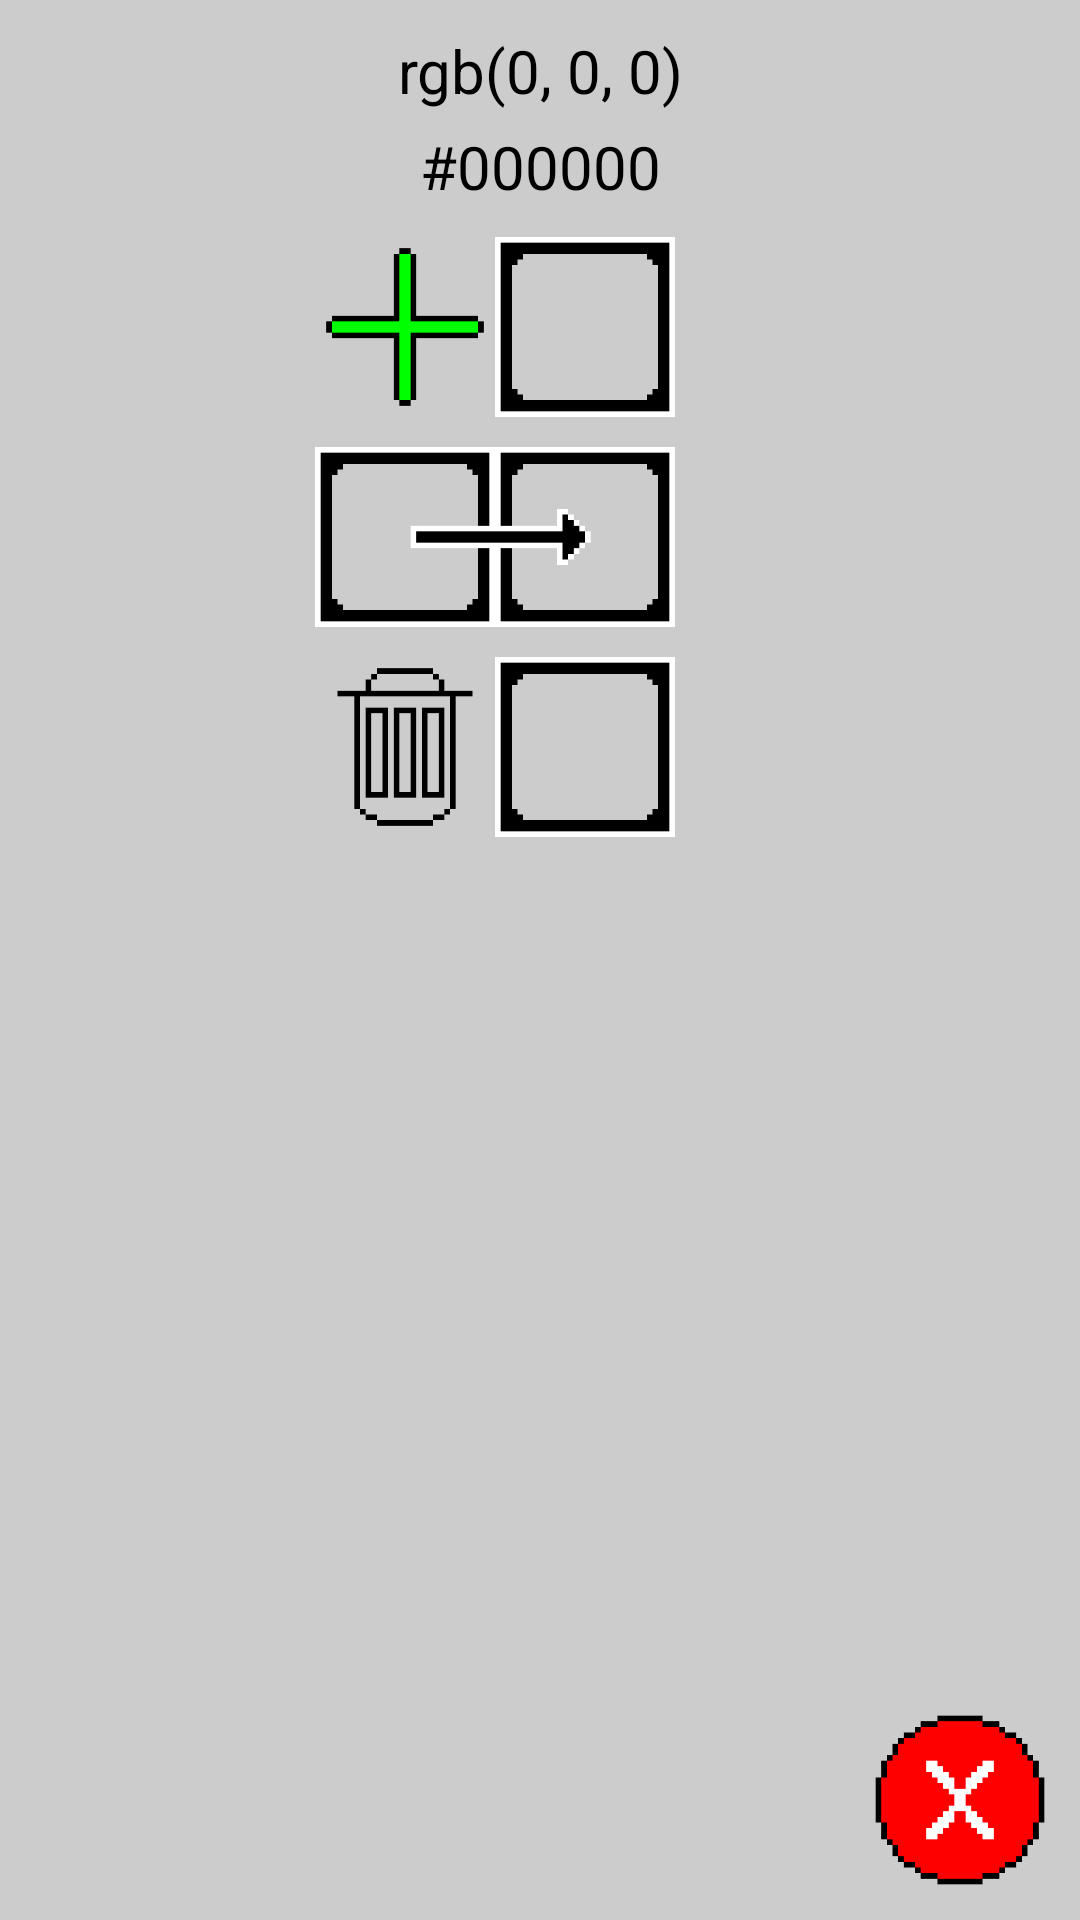

Where icons sit on this 1080 × 1920 app screen, as [x1, y1, x2, y2]:
arrow right: [495, 447, 675, 627]
close: [875, 1715, 1045, 1885]
plusgreen: [326, 248, 484, 406]
